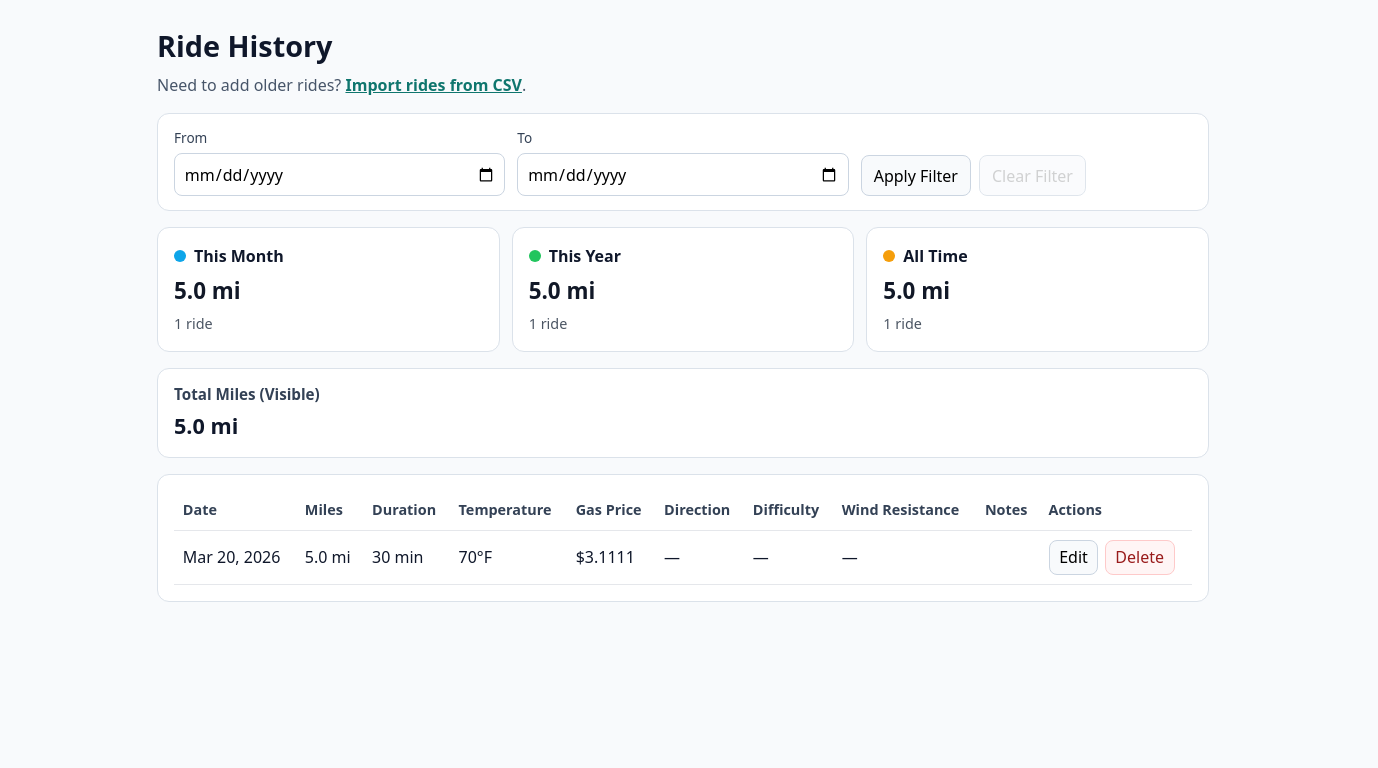
HistoryPage › should refresh gas price on date change in edit mode when lookup is available
Step 1. Click the button "Edit" → coordinates (1073, 557), box [1048, 540, 1098, 575]
(page scrolled)
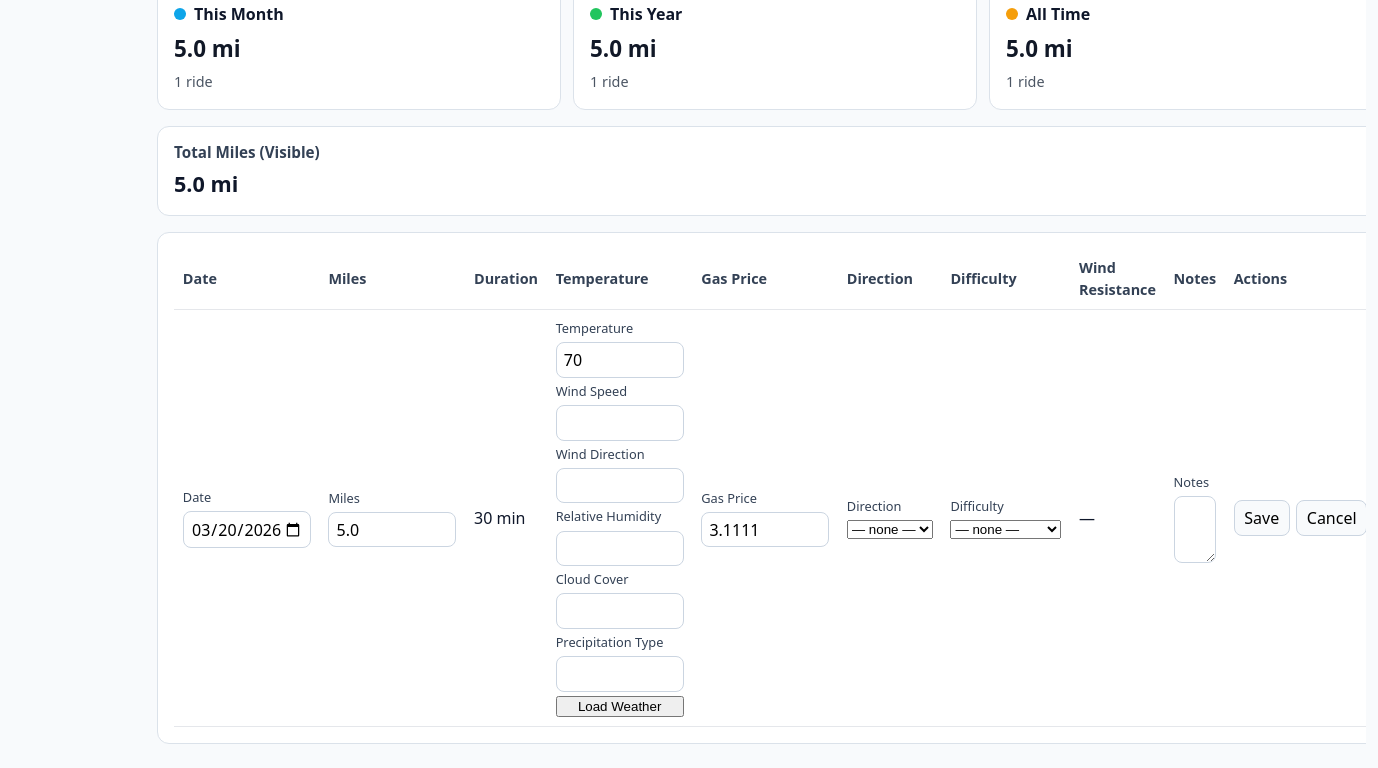
Step 2. Replace the text in the field labelled "Date" with "2026-01-01T09:00" → coordinates (247, 530), box [183, 511, 311, 548]
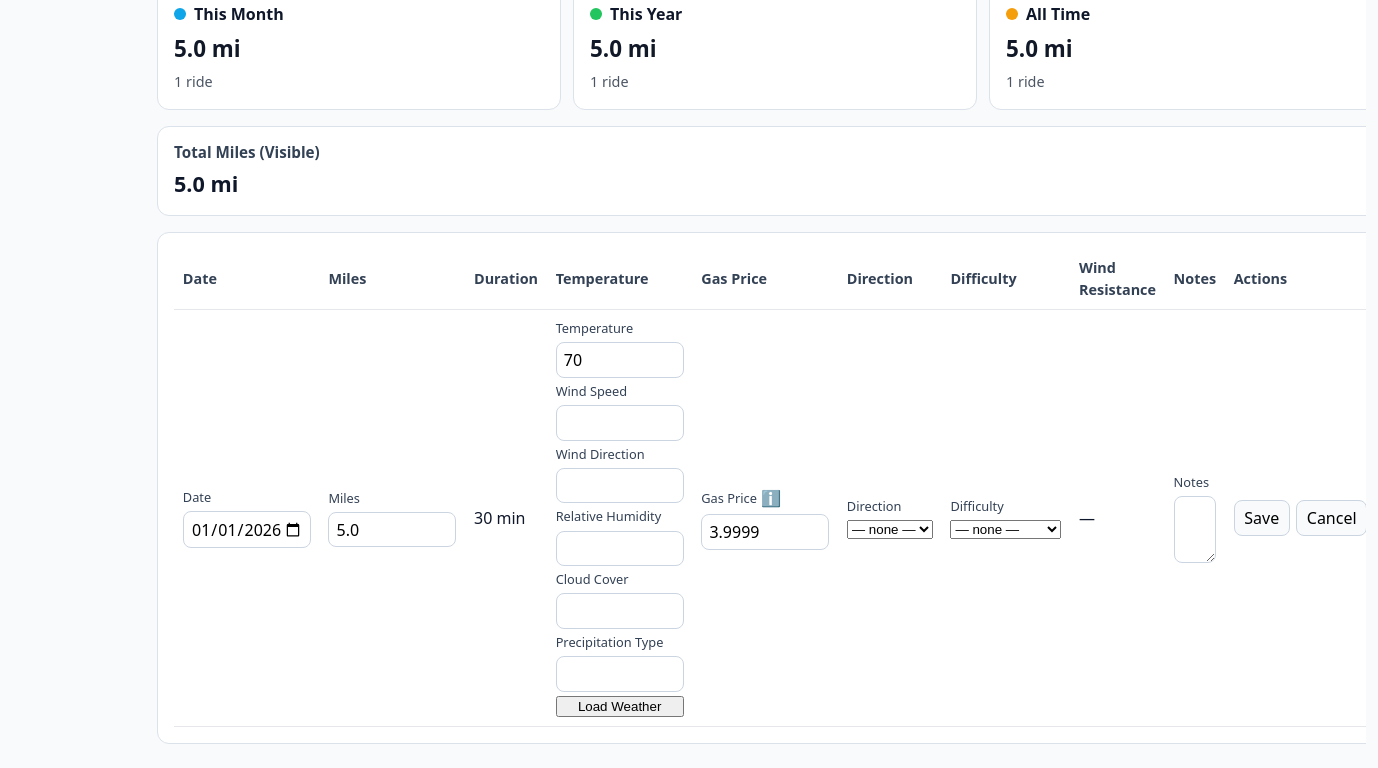
Check: the number field labelled "Gas Price" holds "3.9999", box [701, 514, 829, 550]
